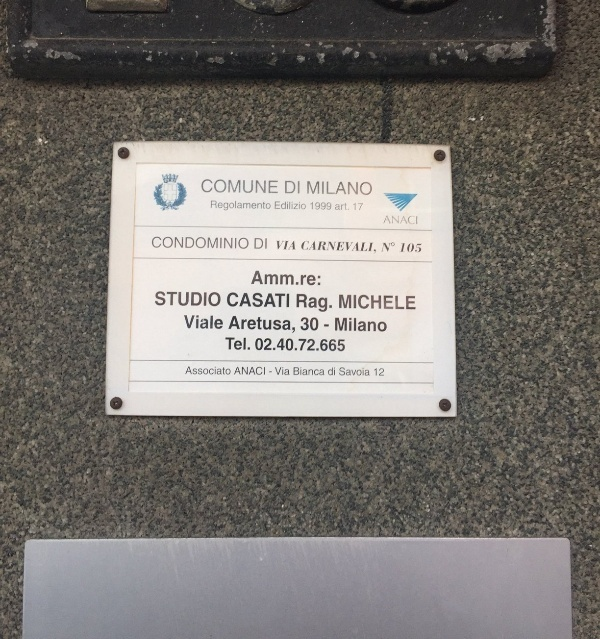text: (305, 294, 320, 313), (241, 316, 256, 334), (257, 316, 272, 334), (273, 316, 288, 334), (305, 271, 321, 287), (321, 181, 336, 197), (337, 181, 352, 197), (353, 181, 368, 197), (257, 271, 272, 287), (273, 271, 288, 287), (289, 271, 304, 287), (353, 295, 368, 311), (369, 295, 384, 311), (385, 295, 400, 311), (401, 295, 416, 311), (209, 179, 224, 194), (225, 179, 240, 194), (241, 179, 256, 194), (257, 179, 272, 194), (161, 292, 176, 307), (177, 292, 192, 307), (193, 292, 208, 307), (241, 293, 256, 308), (257, 293, 272, 308), (273, 293, 288, 308), (257, 337, 272, 352), (273, 337, 288, 352), (289, 337, 304, 352), (305, 337, 320, 352), (321, 337, 336, 352), (305, 240, 320, 254), (321, 240, 336, 254), (337, 240, 352, 254), (353, 240, 368, 254), (193, 316, 208, 330), (337, 318, 352, 332), (353, 318, 368, 332), (369, 318, 384, 332), (321, 294, 332, 313), (307, 181, 320, 197), (209, 316, 223, 330), (305, 318, 319, 332), (161, 236, 176, 249), (177, 236, 192, 249), (193, 236, 208, 249), (209, 236, 224, 249), (225, 236, 240, 249), (227, 293, 240, 308), (340, 295, 352, 311), (226, 337, 240, 350), (209, 292, 221, 307), (289, 180, 300, 195), (225, 200, 240, 211), (241, 200, 256, 211), (401, 243, 416, 254), (257, 200, 271, 211), (401, 215, 416, 225), (353, 367, 368, 377), (232, 316, 240, 334), (211, 200, 224, 211), (386, 215, 400, 225), (289, 201, 304, 210), (337, 337, 346, 352), (305, 367, 320, 376), (297, 294, 304, 313), (241, 337, 251, 350), (257, 237, 267, 249), (276, 240, 288, 250), (193, 367, 208, 375), (209, 367, 224, 375), (241, 367, 256, 375), (340, 367, 352, 377), (275, 201, 288, 210), (275, 367, 288, 376), (369, 240, 377, 254), (184, 316, 192, 330), (385, 243, 395, 254), (289, 316, 295, 334), (201, 179, 208, 194), (152, 236, 160, 249), (241, 236, 249, 249), (294, 367, 304, 376), (321, 202, 332, 210), (353, 203, 364, 211), (310, 202, 320, 210), (374, 369, 384, 377), (337, 203, 348, 210), (273, 179, 278, 194), (257, 367, 266, 375), (369, 181, 373, 197), (328, 368, 336, 376), (289, 240, 295, 250), (156, 292, 160, 307), (417, 243, 422, 254), (225, 367, 231, 375), (285, 180, 288, 195), (301, 318, 304, 332), (324, 324, 336, 327), (321, 367, 325, 376), (188, 367, 192, 375), (236, 367, 240, 375), (302, 240, 304, 254), (385, 318, 387, 332), (254, 237, 256, 249), (369, 367, 371, 377), (255, 271, 256, 287), (289, 293, 290, 308), (335, 318, 336, 332), (383, 243, 384, 254), (417, 215, 418, 225), (305, 201, 306, 210), (289, 367, 290, 376), (335, 203, 336, 210), (269, 371, 272, 373)
